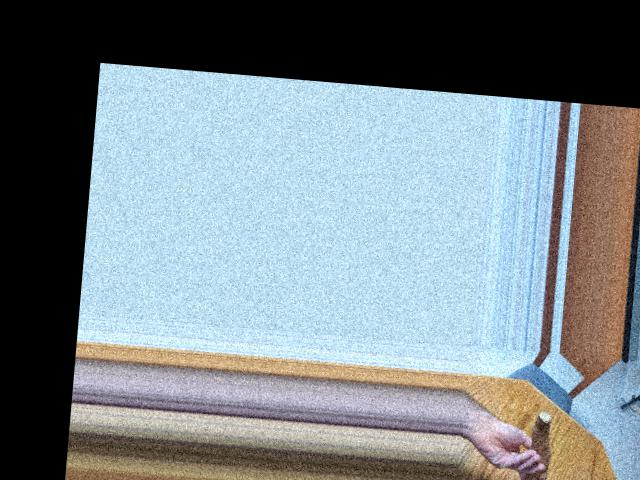sweet_potato: (522, 415, 559, 480)
